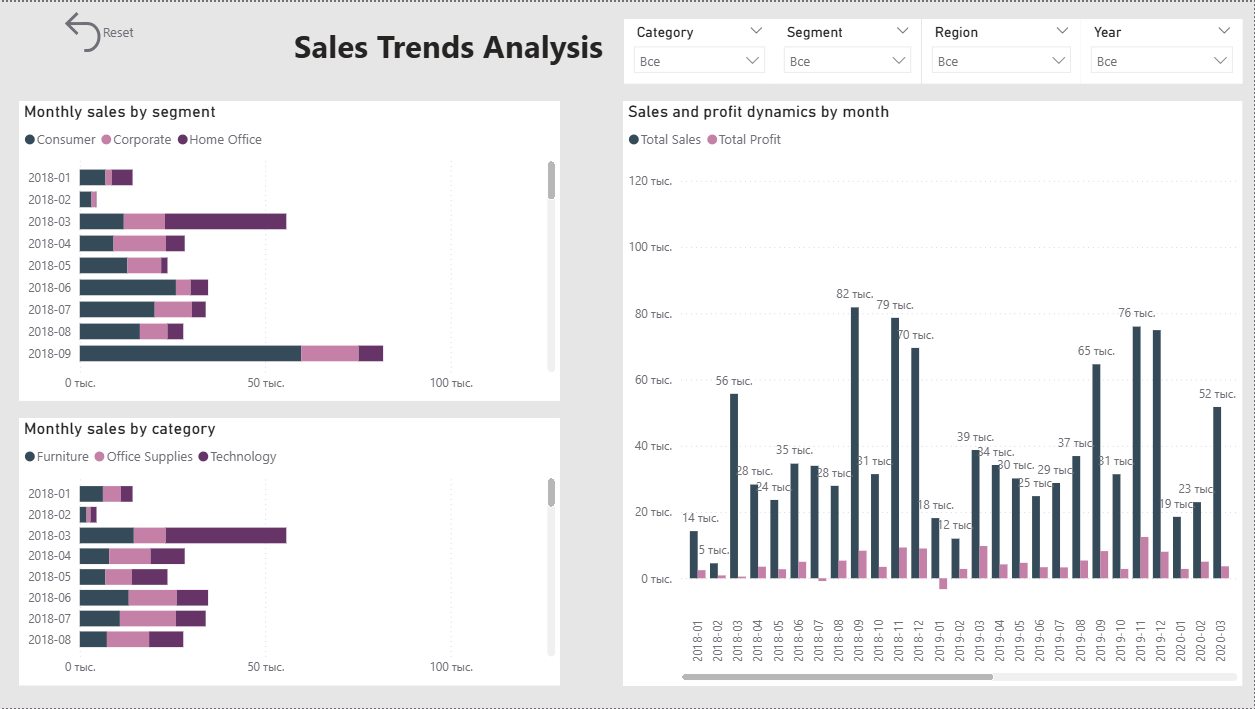

This screenshot's page, from the dashboard's own definition file:
{"tool":"powerbi","page":{"name":"Sales Trends","canvas":[1280,720],"ordinal":1},"visuals":[{"type":"barChart","title":"Monthly sales by segment","fields":{"Category":["Calendar.Year Month"],"Y":["Sample - Superstore_Orders.Total Sales"],"Series":["Sample - Superstore_Orders.Segment"]},"box":[19.2,100.9,552.2,305.9],"z":0},{"type":"barChart","title":"Monthly sales by category","fields":{"Category":["Calendar.Year Month"],"Y":["Sample - Superstore_Orders.Total Sales"],"Series":["Sample - Superstore_Orders.Category"]},"box":[19.2,425,552.2,272.6],"z":1000},{"type":"slicer","fields":{"Values":["Calendar.Year"]},"box":[1102.9,17.4,165,65.7],"z":2000},{"type":"slicer","fields":{"Values":["Sample - Superstore_Orders.Region"]},"box":[940.5,17.4,162.3,65.7],"z":3000},{"type":"slicer","fields":{"Values":["Sample - Superstore_Orders.Segment"]},"box":[790.3,17.2,150.3,66.1],"z":4000},{"type":"slicer","fields":{"Values":["Sample - Superstore_Orders.Category"]},"box":[636.4,17.2,153.9,66.1],"z":5000},{"type":"clusteredColumnChart","title":"Sales and profit dynamics by month","fields":{"Category":["Calendar.Year Month"],"Y":["Sample - Superstore_Orders.Total Sales","Sample - Superstore_Orders.Total Profit"]},"box":[636,100.6,631.9,597.1],"z":6000},{"type":"textbox","box":[294.8,17.2,341.2,65.6],"z":7000},{"type":"actionButton","box":[58.6,4.5,82.3,53],"z":7001}]}

Visuals, with their boxes in screenshot pixels (x1, y1, x2, y2), scaled from the page's 1280x720 canvas onto the 1255x709 screenshot:
"Monthly sales by segment" barChart: 19,99,560,401
"Monthly sales by category" barChart: 19,419,560,687
slicer - Calendar.Year: 1081,17,1243,82
slicer - Sample - Superstore_Orders.Region: 922,17,1081,82
slicer - Sample - Superstore_Orders.Segment: 775,17,922,82
slicer - Sample - Superstore_Orders.Category: 624,17,775,82
"Sales and profit dynamics by month" clusteredColumnChart: 624,99,1243,687
textbox: 289,17,624,82
actionButton: 57,4,138,57
